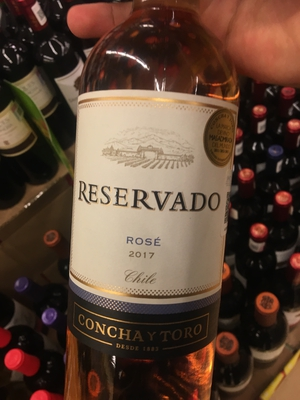reservado rose: (61, 28, 254, 400)
